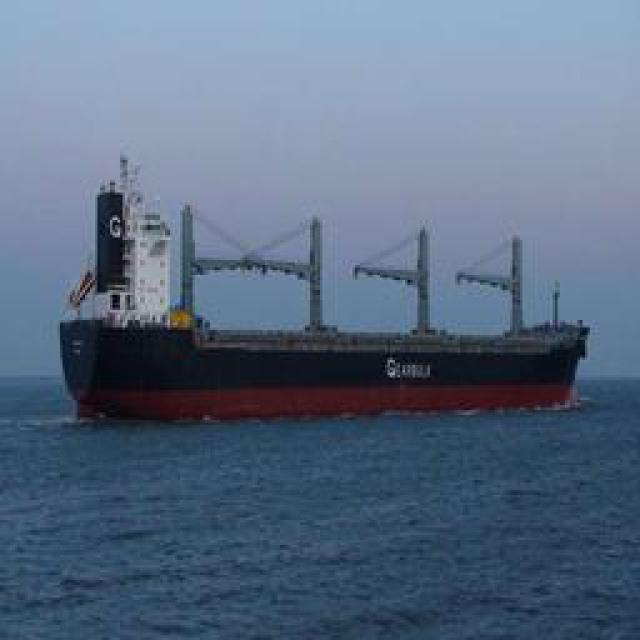Ship: (64, 192, 597, 420)
